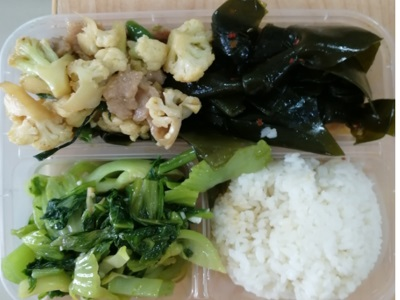cch: (21, 33, 171, 134)
cyc: (27, 170, 179, 290)
hd: (221, 21, 372, 136)
rice: (234, 171, 366, 288)
